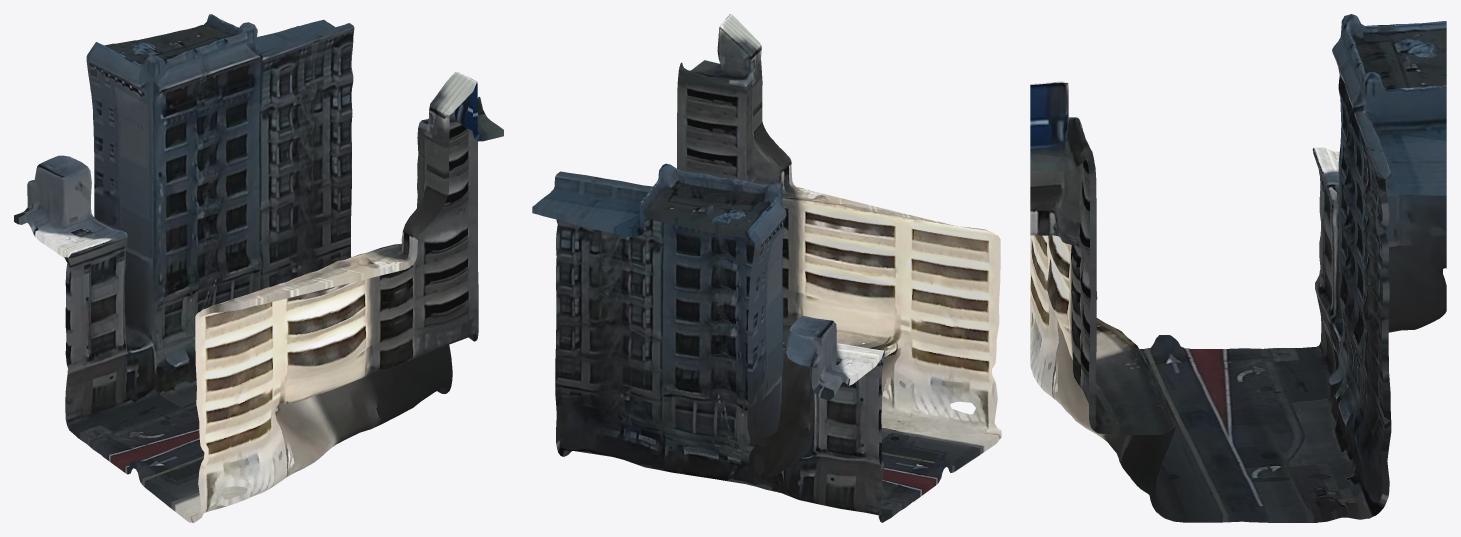
The model's file is z20-167751-405241-h0-yup-uvflip-v3-world.glb.
3 views of the same model, side by side, from view 1: azimuth 30°, elevation 25°; view 2: azimuth 150°, elevation 25°; view 3: azimuth 270°, elevation 25° (orthographic). The views are drawn at different scales.
Size of the model in its own units: 30.16 by 34.92 by 30.32.
Materials: 1 (1 with a texture image).
